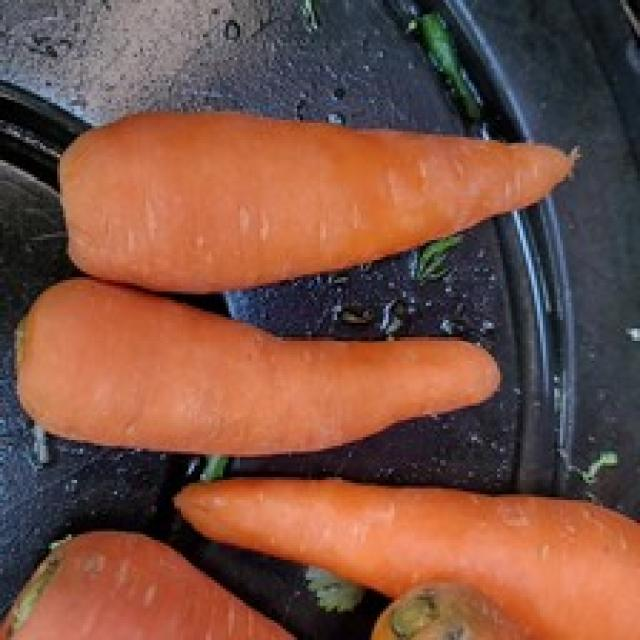Fresh_Carrot: (6, 282, 520, 462), (183, 454, 640, 640), (61, 119, 578, 272), (15, 523, 377, 640)
